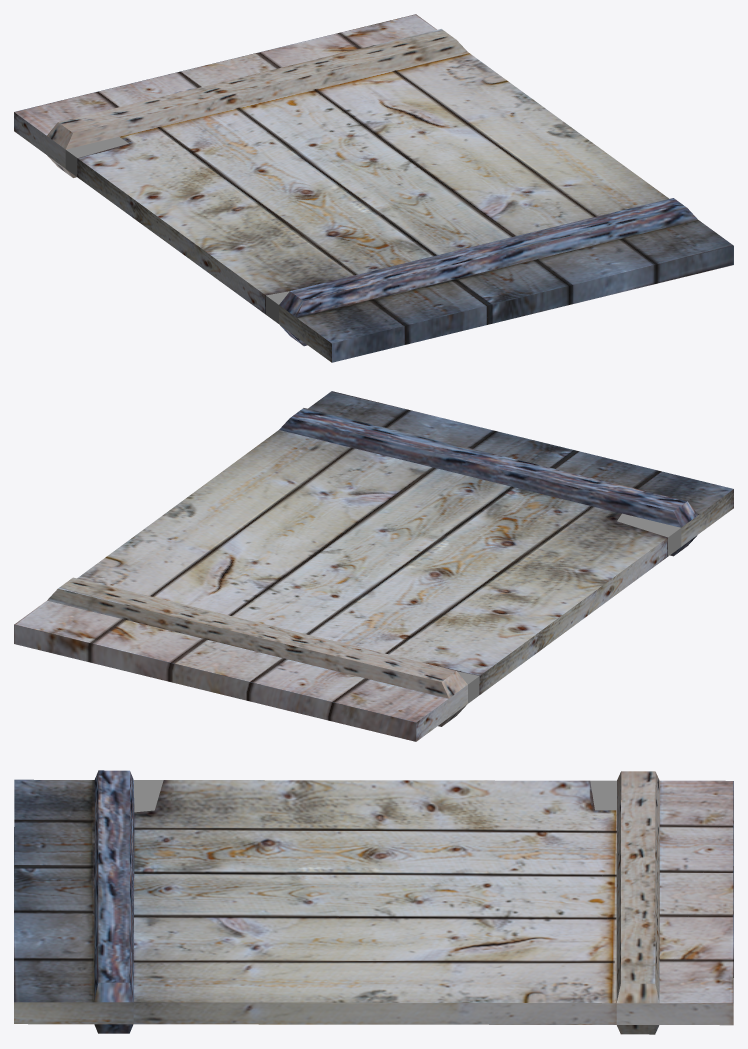
Rendered from DoorOldWood.FBX.
The picture shows the model from 3 angles, top to bottom: view 1: azimuth 30°, elevation 25°; view 2: azimuth 150°, elevation 25°; view 3: azimuth 270°, elevation 25°; orthographic projection. The views are drawn at different scales.
Visible parts, largest first — view 1: DoorOldWood; view 2: DoorOldWood; view 3: DoorOldWood.
Boxes of the visible parts, x1,y1,x2,y2 form: DoorOldWood: (14,14,733,362); DoorOldWood: (14,391,733,741); DoorOldWood: (14,770,733,1034).
Bounding box in the file's own units: 1.6 × 0.1753 × 2.19.
Materials: 2 (1 with a texture image).
